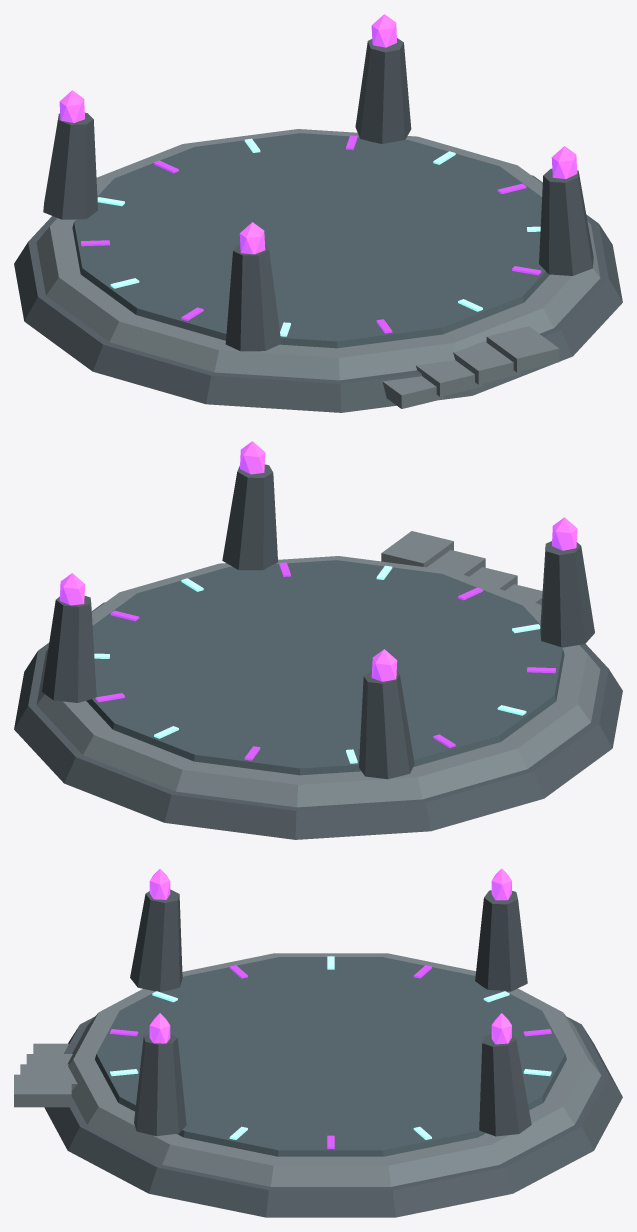
The model's file is wellspring_guardian_platform.glb.
The picture shows the model from 3 angles, top to bottom: view 1: azimuth 30°, elevation 25°; view 2: azimuth 150°, elevation 25°; view 3: azimuth 270°, elevation 25°; orthographic projection. The views are drawn at different scales.
Parts seen in each view (by area): view 1: Guardian_Platform_Arena, Guardian_Platform_Upper, Guardian_Platform_Lower, Guardian_Platform_Pylon_3, Guardian_Platform_Pylon_1, Guardian_Platform_Pylon_4, Guardian_Platform_Pylon_2, Guardian_Platform_Step_4, Guardian_Platform_Step_3, Guardian_Platform_Step_2, Guardian_Platform_Step_1, Guardian_Platform_Gem_1 (+3 smaller); view 2: Guardian_Platform_Arena, Guardian_Platform_Upper, Guardian_Platform_Lower, Guardian_Platform_Pylon_2, Guardian_Platform_Pylon_1, Guardian_Platform_Pylon_4, Guardian_Platform_Pylon_3, Guardian_Platform_Step_4, Guardian_Platform_Step_3, Guardian_Platform_Gem_3, Guardian_Platform_Gem_4, Guardian_Platform_Gem_1 (+2 smaller); view 3: Guardian_Platform_Arena, Guardian_Platform_Upper, Guardian_Platform_Lower, Guardian_Platform_Pylon_4, Guardian_Platform_Pylon_3, Guardian_Platform_Pylon_1, Guardian_Platform_Pylon_2, Guardian_Platform_Step_4, Guardian_Platform_Step_3, Guardian_Platform_Gem_2, Guardian_Platform_Gem_3, Guardian_Platform_Gem_4 (+2 smaller).
Boxes of the visible parts, x1,y1,x2,y2 form: Guardian_Platform_Arena: [72, 133, 549, 348]; Guardian_Platform_Upper: [36, 129, 600, 380]; Guardian_Platform_Lower: [14, 175, 622, 412]; Guardian_Platform_Pylon_3: [225, 244, 281, 351]; Guardian_Platform_Pylon_1: [355, 38, 411, 143]; Guardian_Platform_Pylon_4: [539, 168, 593, 275]; Guardian_Platform_Pylon_2: [43, 112, 97, 219]; Guardian_Platform_Step_4: [486, 326, 559, 372]; Guardian_Platform_Step_3: [453, 340, 520, 384]; Guardian_Platform_Step_2: [416, 360, 482, 396]; Guardian_Platform_Step_1: [382, 376, 443, 408]; Guardian_Platform_Gem_1: [371, 14, 396, 47]; Guardian_Platform_Arena: [86, 560, 564, 775]; Guardian_Platform_Upper: [36, 556, 600, 807]; Guardian_Platform_Lower: [14, 602, 622, 839]; Guardian_Platform_Pylon_2: [359, 671, 414, 779]; Guardian_Platform_Pylon_1: [42, 596, 96, 702]; Guardian_Platform_Pylon_4: [222, 464, 277, 570]; Guardian_Platform_Pylon_3: [540, 541, 594, 647]; Guardian_Platform_Step_4: [381, 531, 453, 567]; Guardian_Platform_Step_3: [427, 550, 485, 576]; Guardian_Platform_Gem_3: [552, 517, 577, 550]; Guardian_Platform_Gem_4: [240, 441, 265, 474]; Guardian_Platform_Gem_1: [59, 573, 85, 605]; Guardian_Platform_Arena: [95, 957, 566, 1156]; Guardian_Platform_Upper: [67, 953, 601, 1186]; Guardian_Platform_Lower: [44, 1016, 622, 1217]; Guardian_Platform_Pylon_4: [134, 1033, 186, 1136]; Guardian_Platform_Pylon_3: [130, 889, 182, 992]; Guardian_Platform_Pylon_1: [479, 1034, 531, 1136]; Guardian_Platform_Pylon_2: [475, 890, 527, 991]; Guardian_Platform_Step_4: [14, 1074, 71, 1107]; Guardian_Platform_Step_3: [20, 1064, 77, 1090]; Guardian_Platform_Gem_2: [491, 868, 511, 900]; Guardian_Platform_Gem_3: [149, 869, 170, 899]; Guardian_Platform_Gem_4: [149, 1013, 170, 1043].
Bounding box in the file's own units: 7.12 × 2.16 × 7.61.
